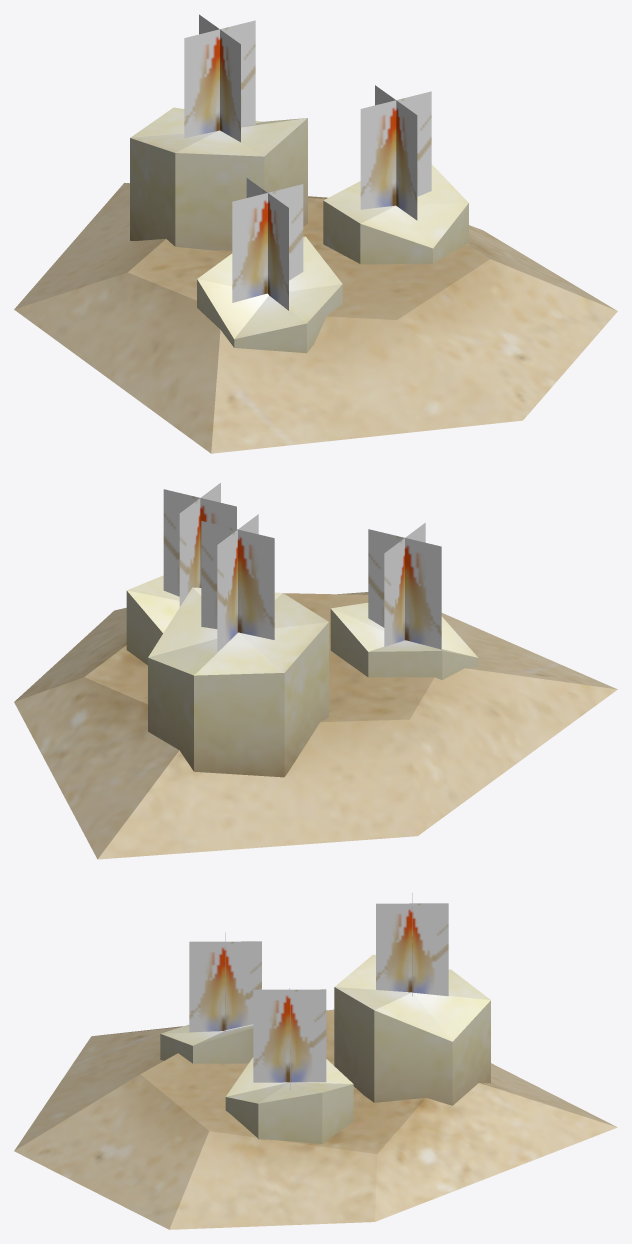
Rendered from Candles_1.fbx.
3 renders of one model, top to bottom at view 1: azimuth 30°, elevation 25°; view 2: azimuth 150°, elevation 25°; view 3: azimuth 270°, elevation 25°, orthographic. The views are drawn at different scales.
Parts seen in each view (by area): view 1: Candles_1; view 2: Candles_1; view 3: Candles_1.
Boxes of the visible parts, bbox=[...] form: Candles_1: bbox=[14, 14, 617, 453]; Candles_1: bbox=[14, 483, 617, 859]; Candles_1: bbox=[14, 893, 617, 1229].
Size of the model in its own units: 17.67 by 9.14 by 23.28.
